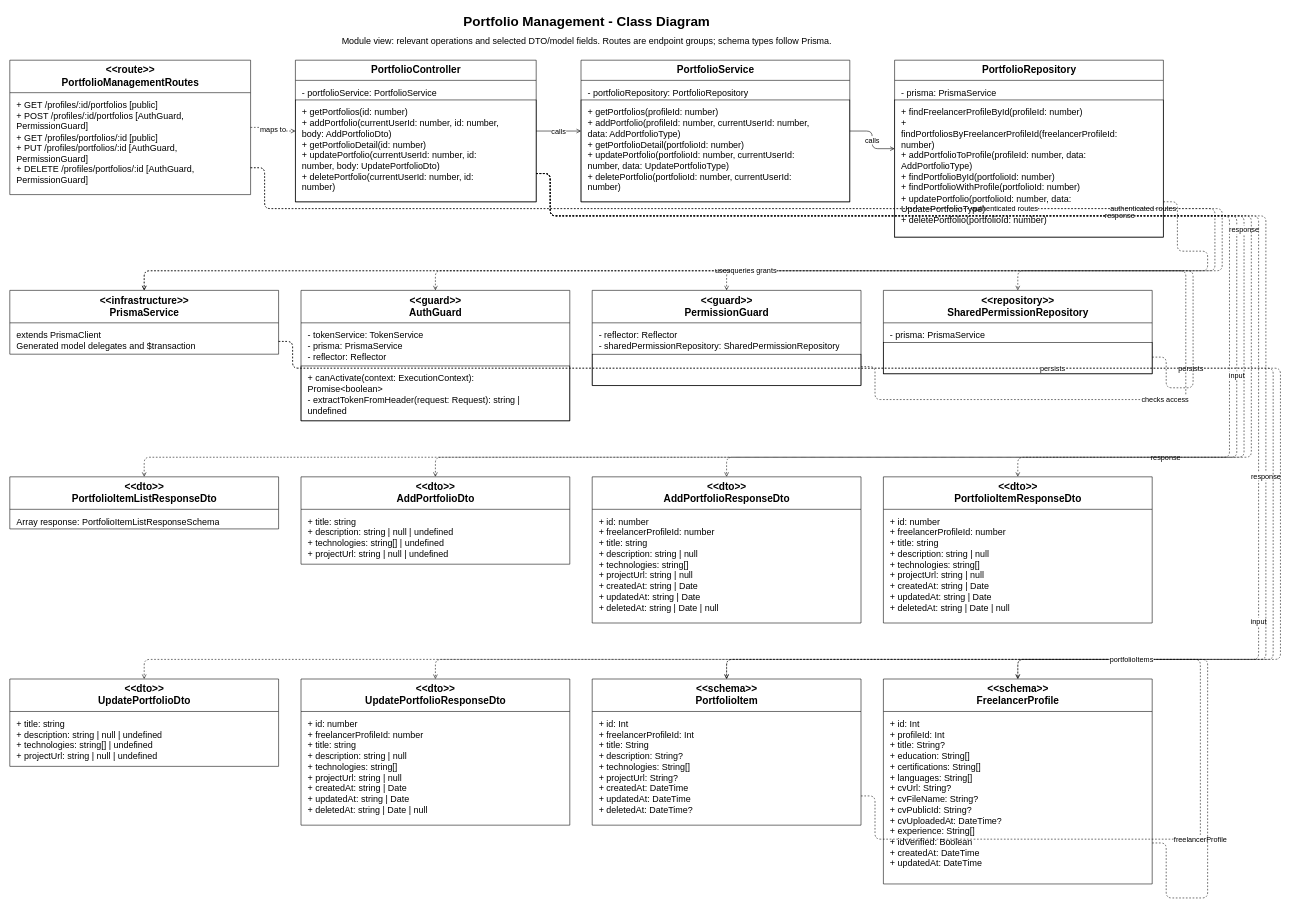
Some shapes in this 1295 by 912 pixel diagram are drawn without their labels. Each missing label, with the centre of its shape:
+ canActivate(context: ExecutionContext): Promise<boolean>: the point at 726,370
+ roleHasPermission(roleId: number, method: string, path: string): the point at 1017,358
